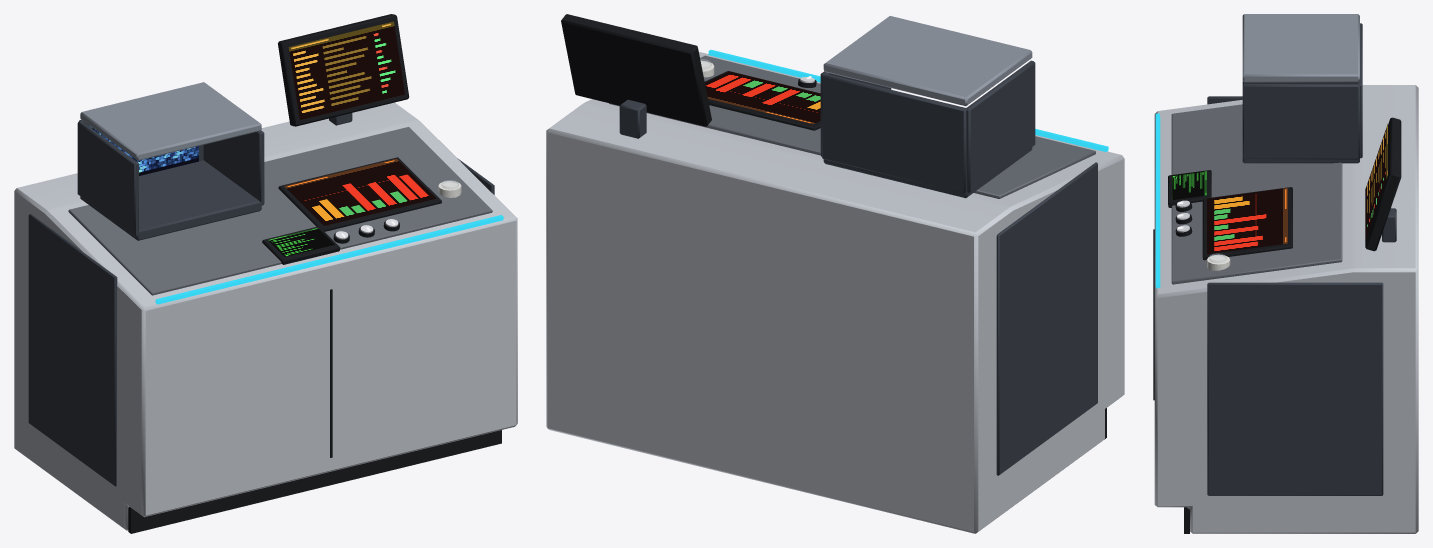
The model's file is console_science.glb.
The picture shows the model from 3 angles, left to right: view 1: azimuth 30°, elevation 25°; view 2: azimuth 150°, elevation 25°; view 3: azimuth 270°, elevation 25°; orthographic projection. The views are drawn at different scales.
Parts seen in each view (by area): view 1: console_science; view 2: console_science; view 3: console_science.
Boxes of the visible parts, x1=… form: console_science: x1=14, y1=14, x2=517, y2=533; console_science: x1=546, y1=14, x2=1124, y2=533; console_science: x1=1153, y1=14, x2=1418, y2=533.
Bounding box in the file's own units: 1.52 × 1.35 × 0.904.
Materials: 14 (4 with a texture image).
